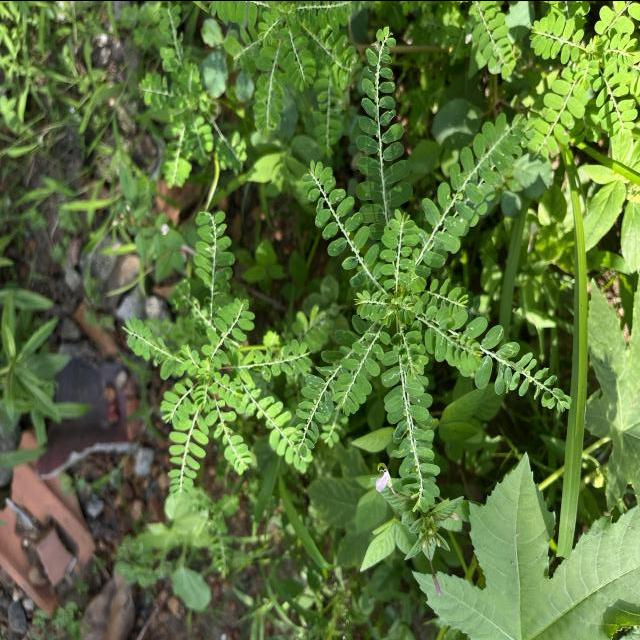Phyllanthus niruri: (420, 106, 522, 272), (357, 17, 412, 231), (381, 336, 444, 516), (301, 156, 379, 283), (485, 328, 571, 416), (243, 376, 310, 469), (330, 327, 385, 415), (422, 306, 482, 376), (192, 205, 234, 304), (119, 314, 180, 380), (200, 291, 255, 363), (164, 414, 210, 496), (207, 401, 251, 474), (378, 211, 418, 288), (353, 284, 390, 320)
